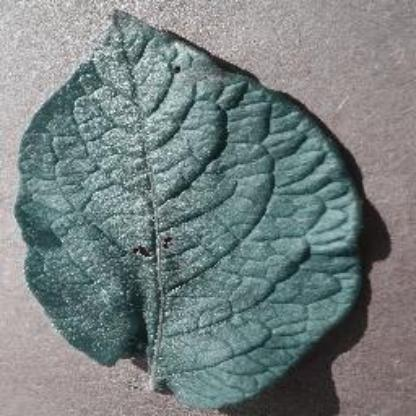Healthy-plant: (14, 6, 366, 412)
